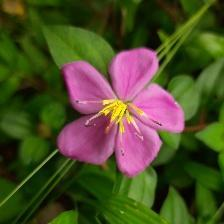malabar melastome: (55, 47, 185, 179)
